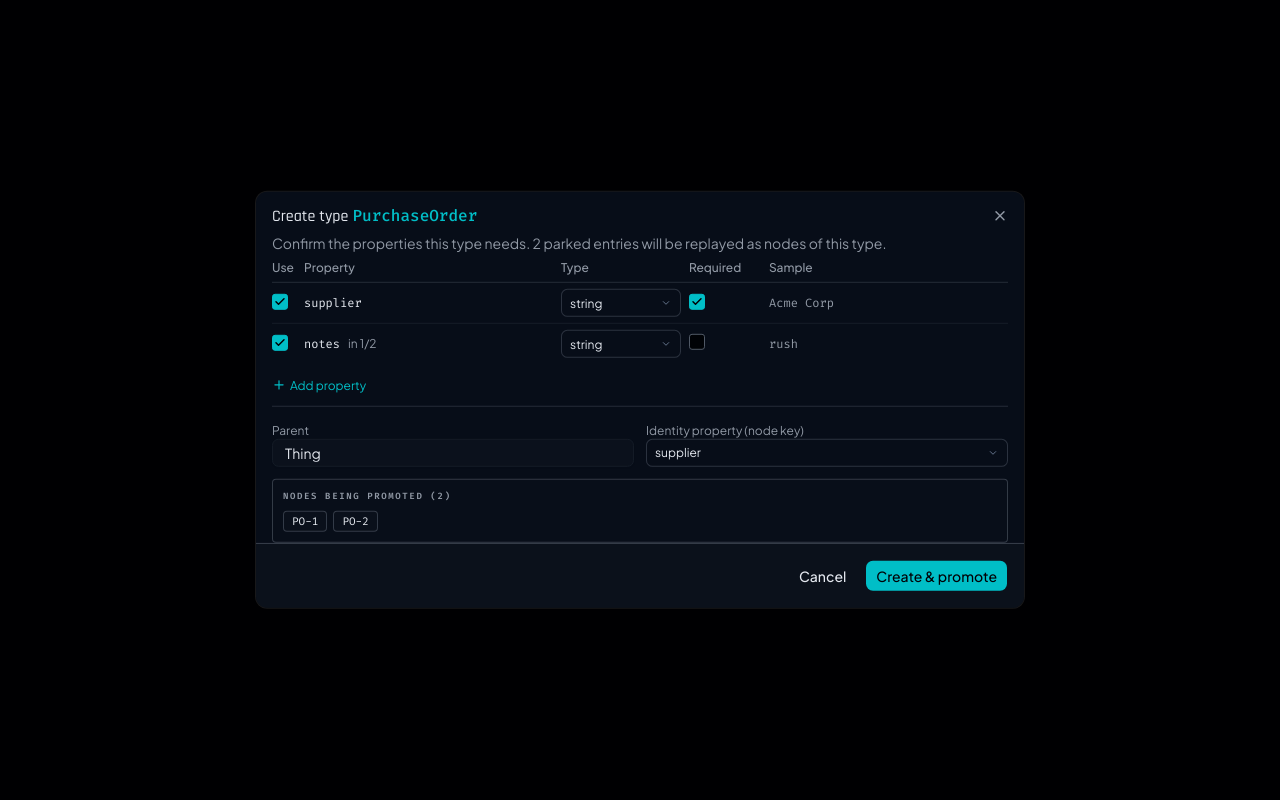
Test: SchemaPromotionDialog › blocks submission when every property is excluded
Click the checkbox named "Include supplier" at (280, 302), box left=272, top=294, right=288, bottom=310
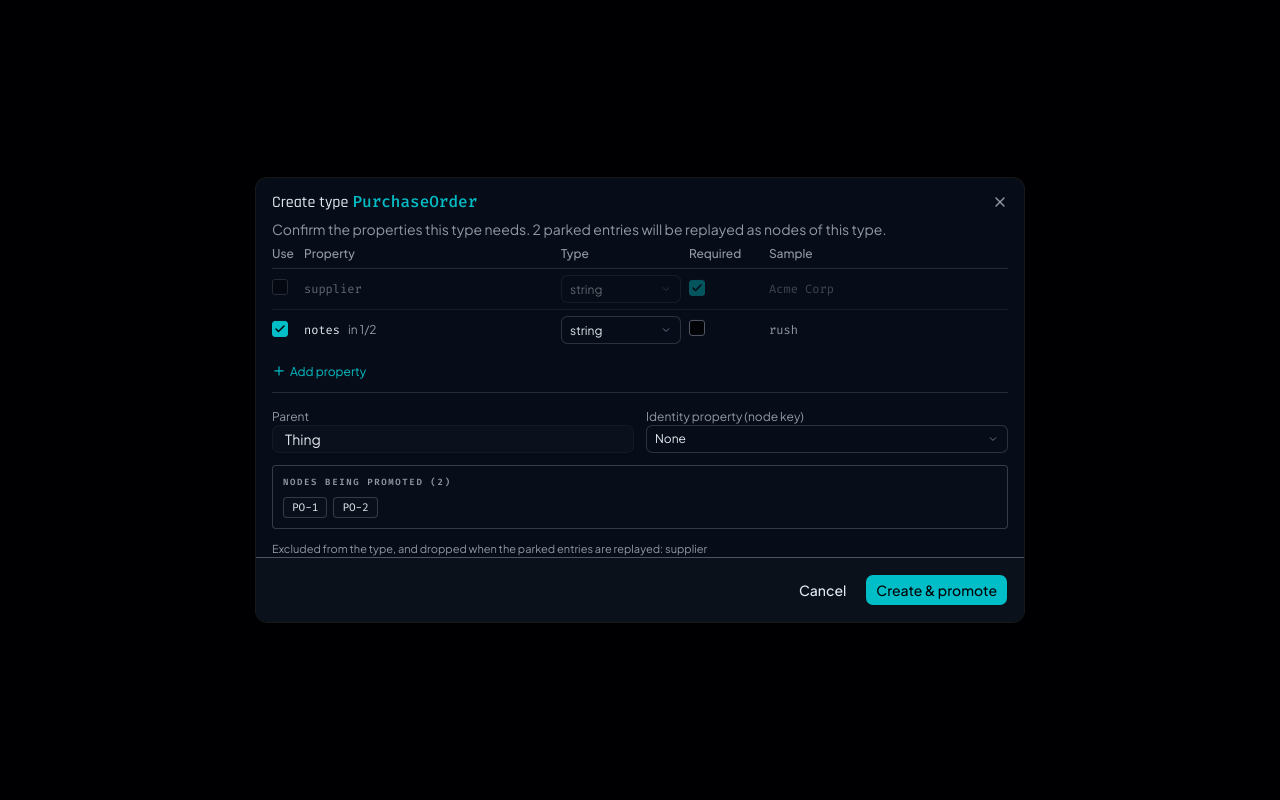
Click the checkbox named "Include notes" at (280, 329), box left=272, top=321, right=288, bottom=337
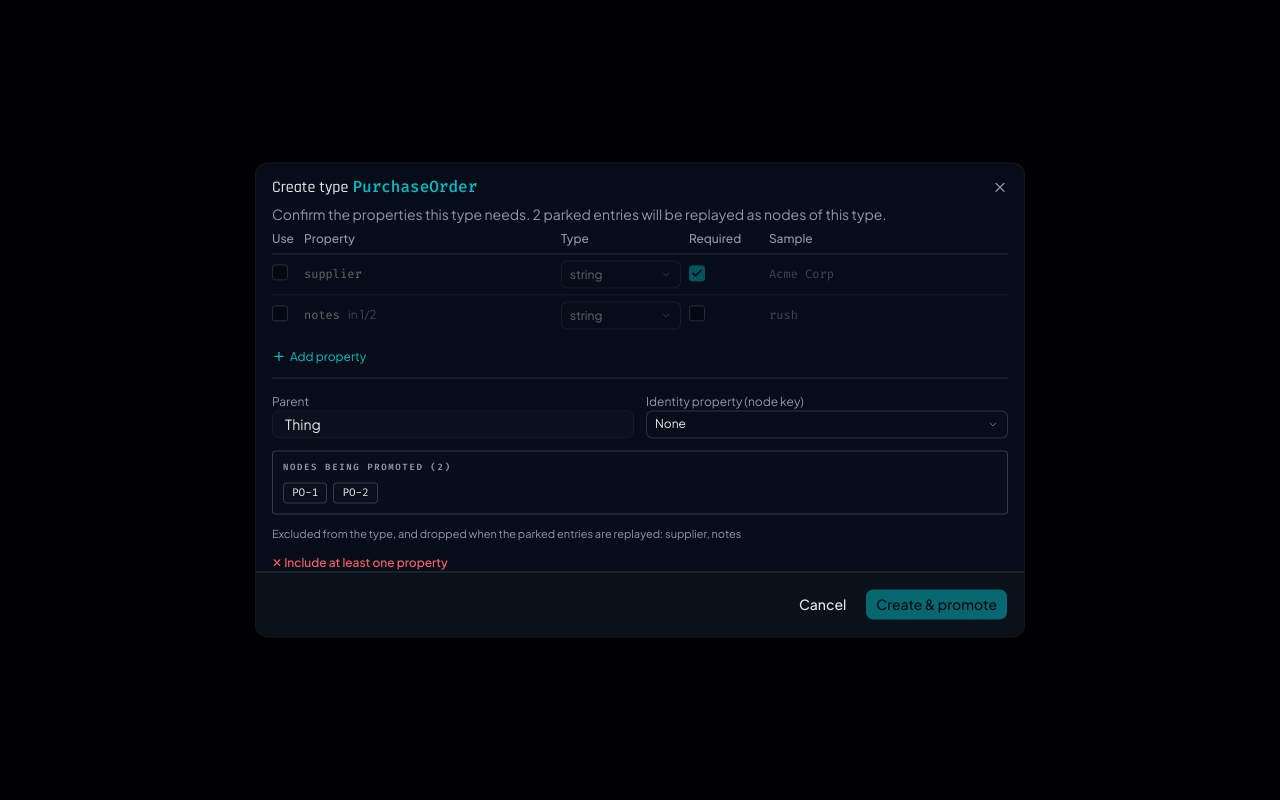
Check: the text "✕ Include at least one property" is shown, box left=272, top=556, right=448, bottom=570
Check: the button with test id "schema-promotion-confirm" is disabled, box left=865, top=589, right=1008, bottom=621
